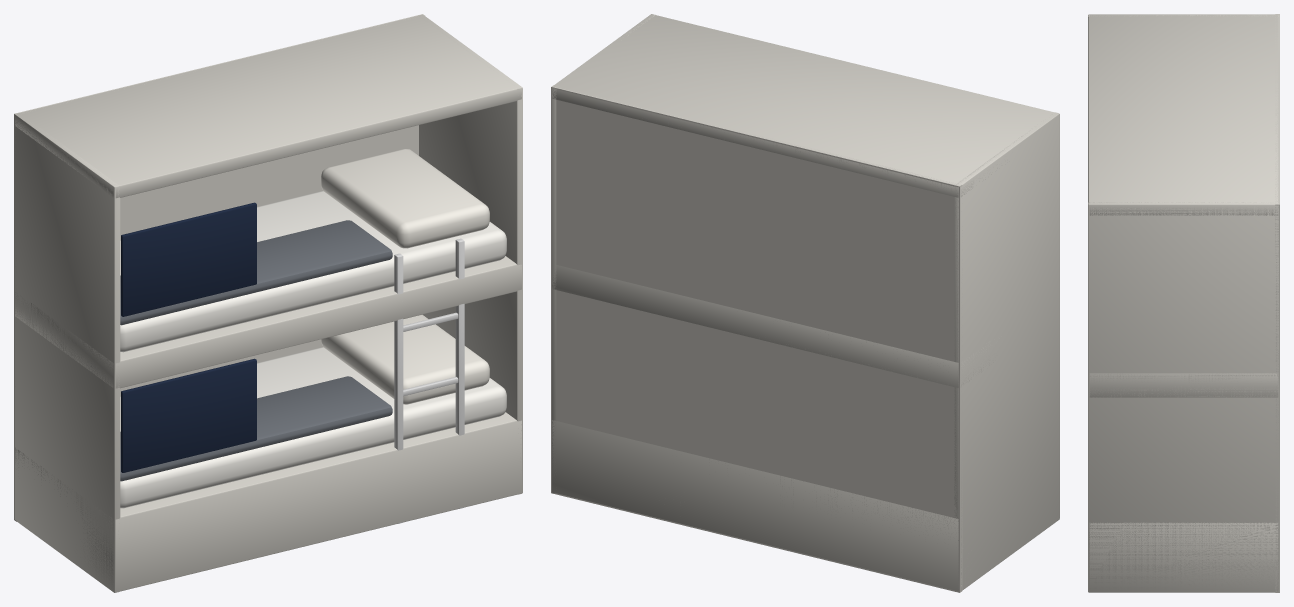
The model's file is marlin_bunks.glb.
3 renders of one model, left to right at view 1: azimuth 30°, elevation 25°; view 2: azimuth 150°, elevation 25°; view 3: azimuth 270°, elevation 25°, orthographic. The views are drawn at different scales.
Visible parts, largest first — view 1: marlin_bunks; view 2: marlin_bunks; view 3: marlin_bunks.
Boxes of the visible parts, x1=… form: marlin_bunks: x1=14, y1=14, x2=522, y2=592; marlin_bunks: x1=551, y1=14, x2=1059, y2=592; marlin_bunks: x1=1088, y1=14, x2=1279, y2=592.
Size of the model in its own units: 2 by 1.9 by 0.85.
